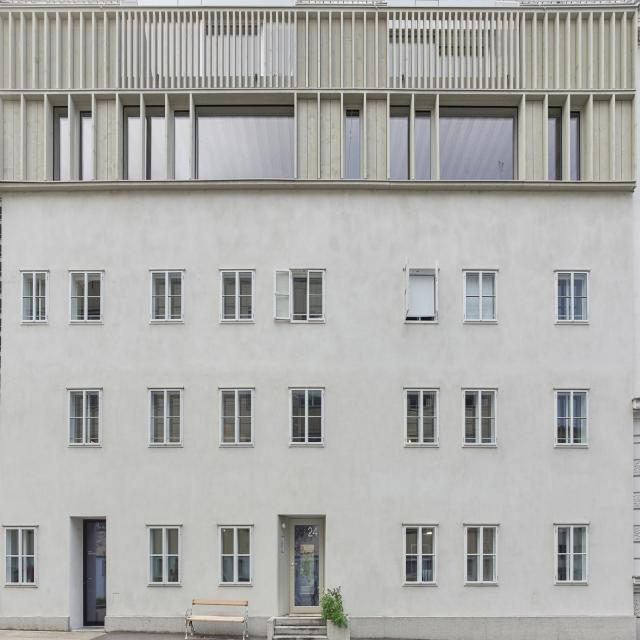door: (289, 523, 325, 613), (84, 556, 108, 624)
plant: (319, 581, 350, 628)
wall: (0, 2, 637, 639)
windows: (194, 99, 296, 180), (439, 103, 516, 182), (145, 104, 167, 181), (151, 526, 181, 580), (557, 530, 587, 584), (6, 528, 36, 581), (407, 529, 437, 582), (467, 528, 497, 581), (388, 106, 410, 178), (406, 271, 438, 320), (404, 392, 436, 441), (343, 102, 363, 180), (222, 528, 252, 580), (220, 272, 250, 322), (464, 394, 494, 444), (218, 394, 248, 444), (554, 392, 584, 442), (70, 270, 99, 320), (467, 272, 496, 322), (557, 270, 586, 320), (68, 390, 97, 440), (415, 106, 433, 180), (154, 271, 180, 322), (295, 272, 321, 323), (152, 392, 178, 443), (293, 393, 319, 444), (22, 272, 48, 322), (125, 106, 142, 180), (173, 108, 190, 182), (78, 108, 94, 184), (546, 108, 562, 181), (54, 106, 69, 182), (570, 108, 583, 182)
